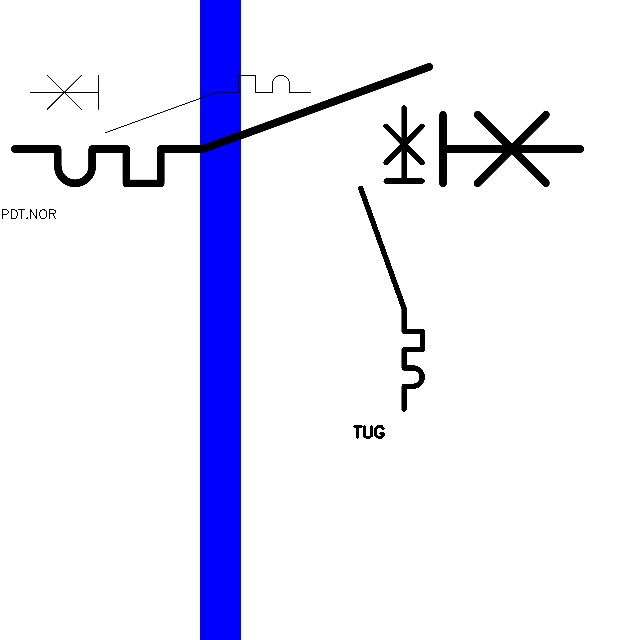interruptor_termomagnetico: (0, 52, 594, 198), (353, 100, 430, 417), (23, 68, 318, 140)
